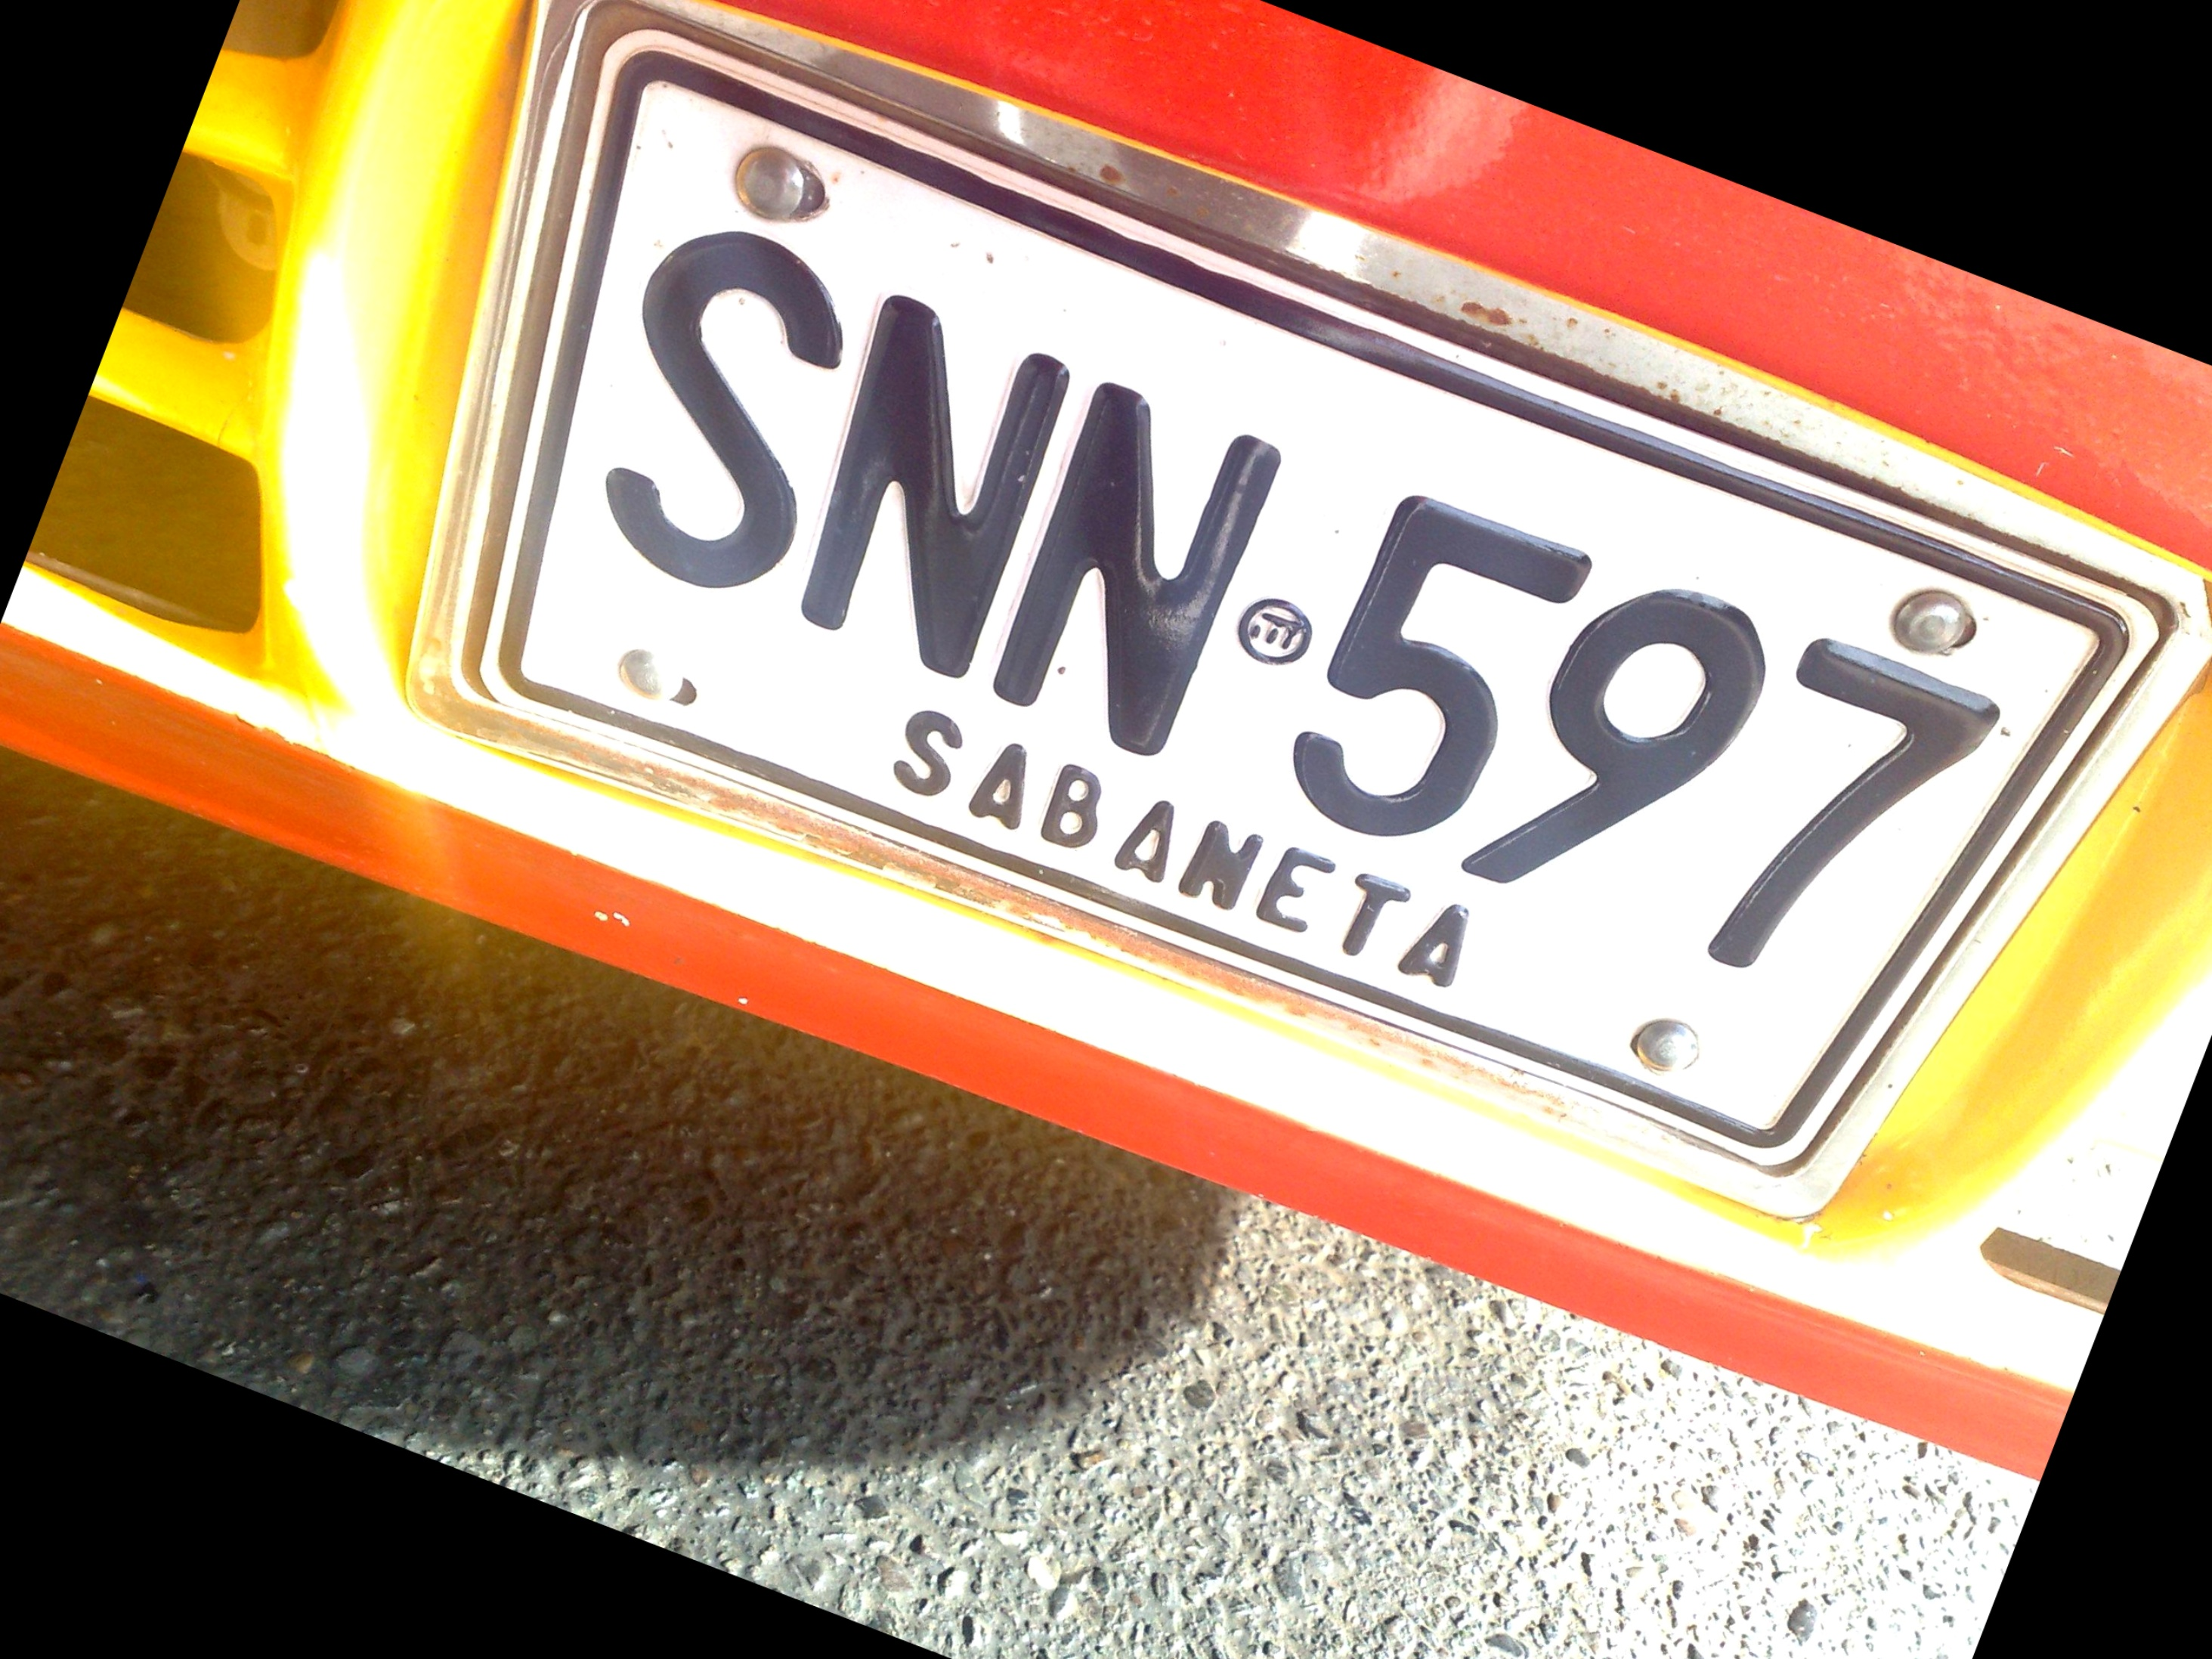placas: (345, 0, 2168, 1271)
